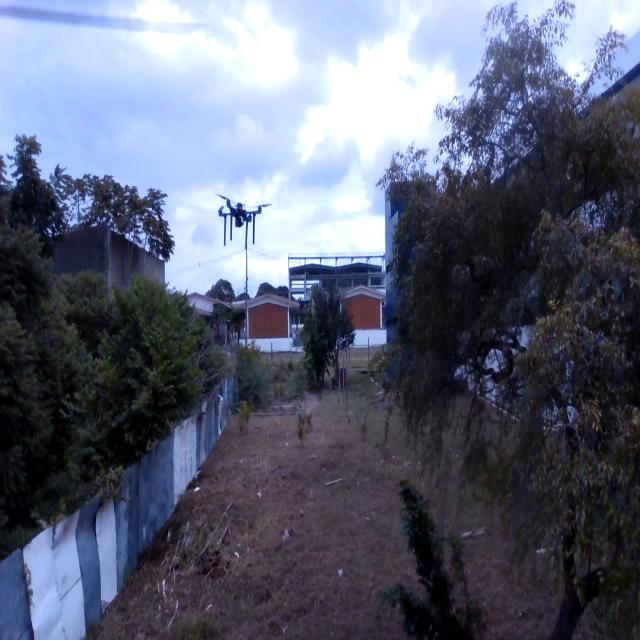-uav-: (209, 176, 274, 249)
